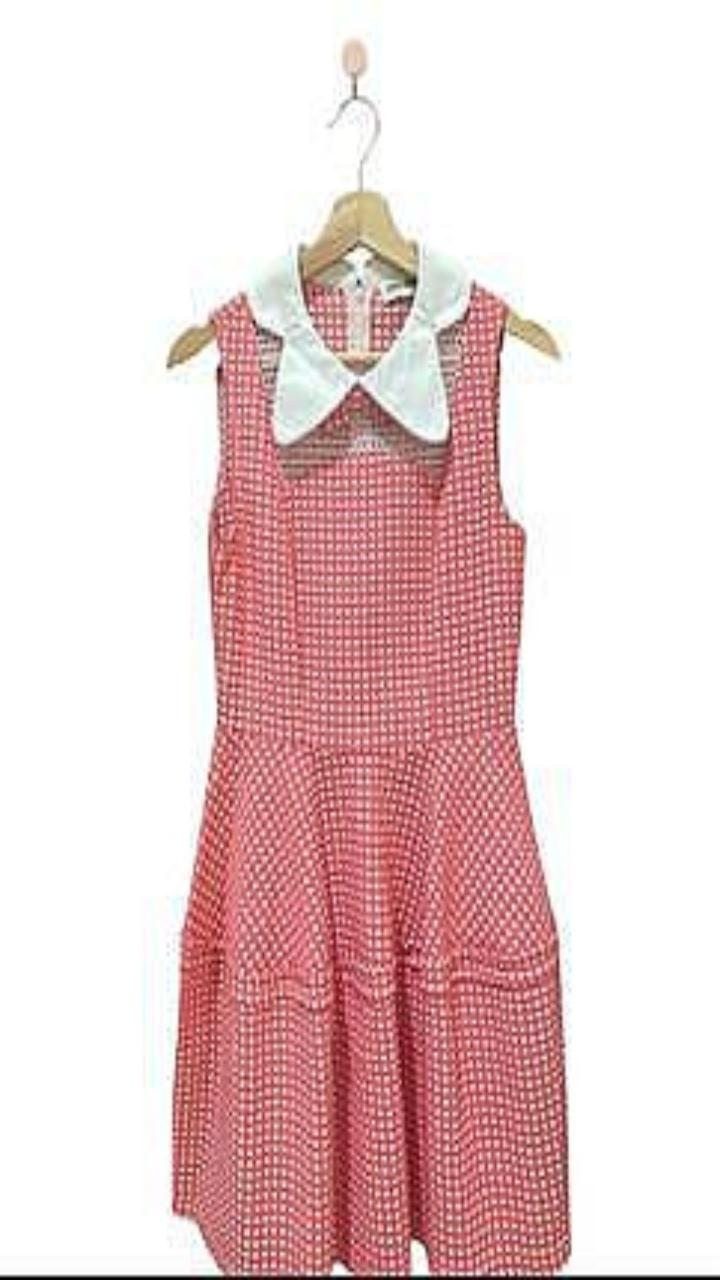Dresses: (174, 248, 569, 1274)
